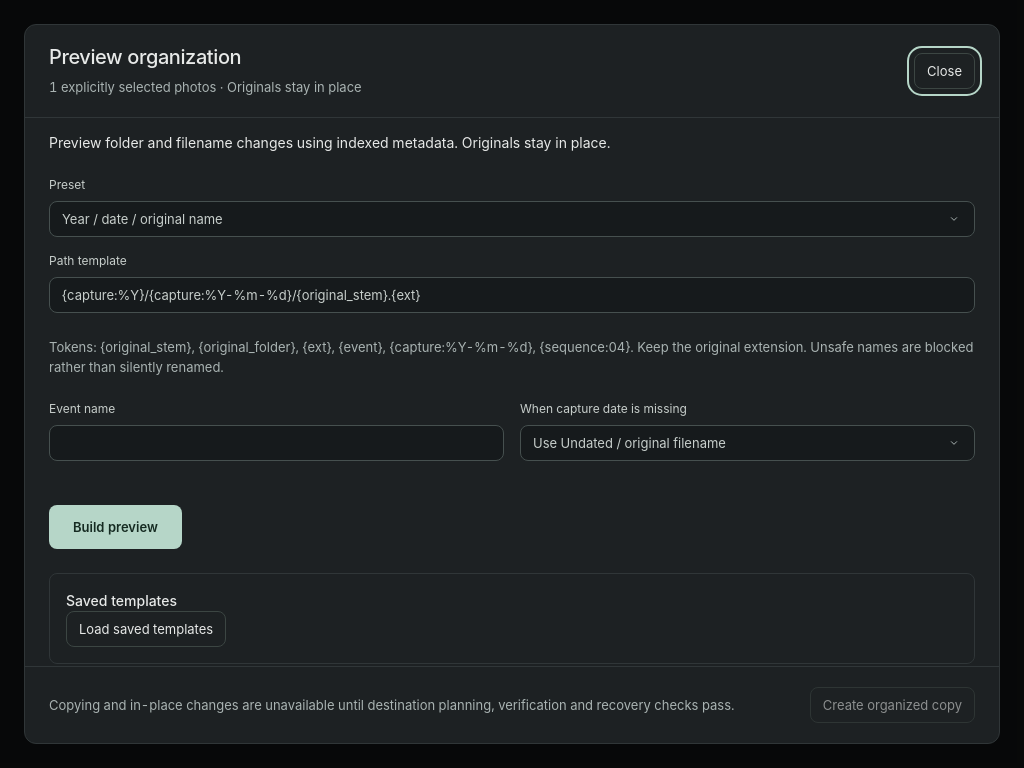
it: sends catalog IDs and typed settings, renders untrusted paths as text and keeps execution unavailable
This screenshot has width=1024, height=768.
Click the button "Build preview" at (115, 527), box [49,505,182,549]
(page scrolled)
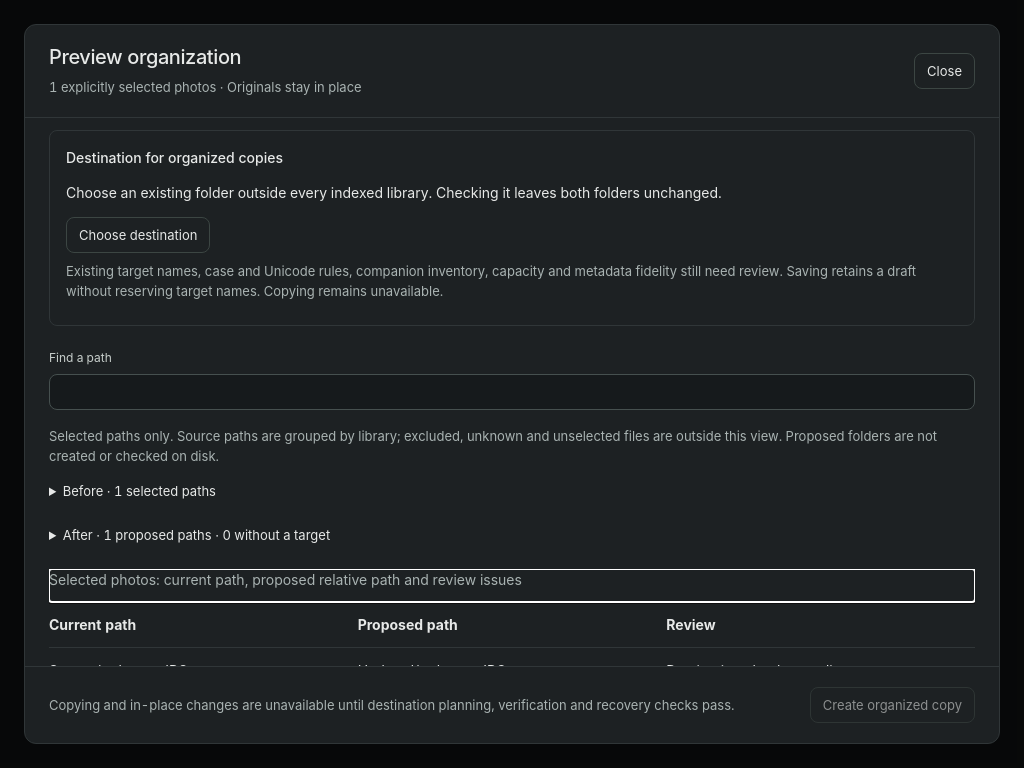
Check: the button "Create organized copy" is disabled, box [810,687,975,723]
Type "absent" into the search field labelled "Find a path" at (512, 392), box [49,374,975,410]
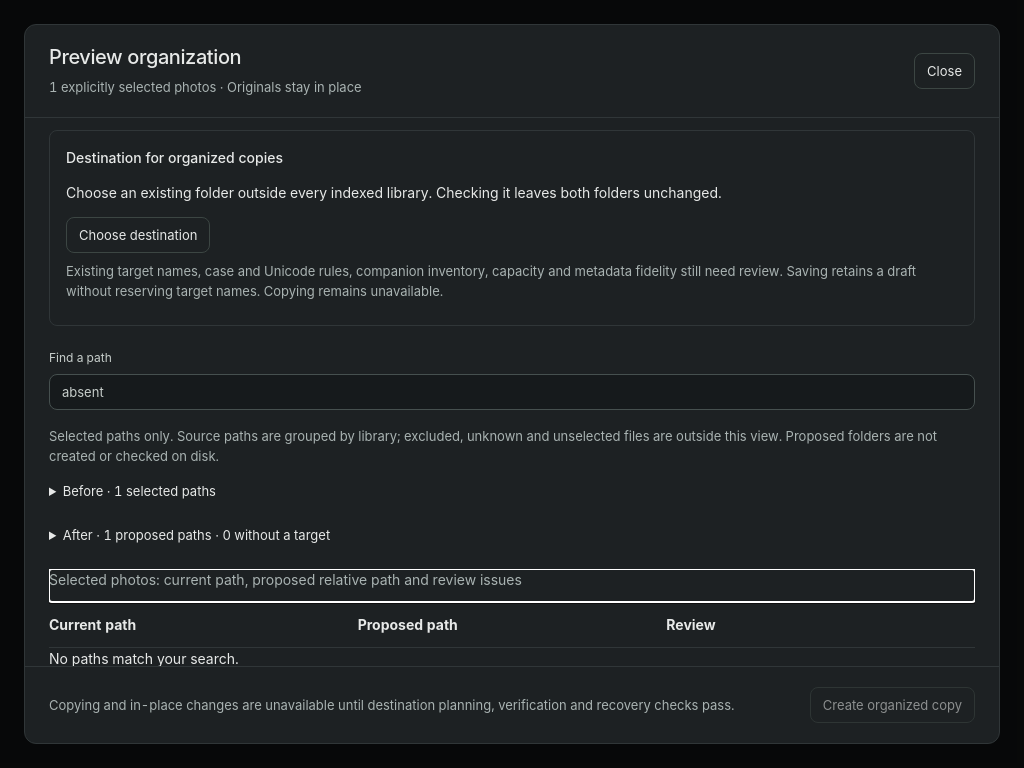
Check: the text "No paths match your search." is shown, box [49,650,239,666]
